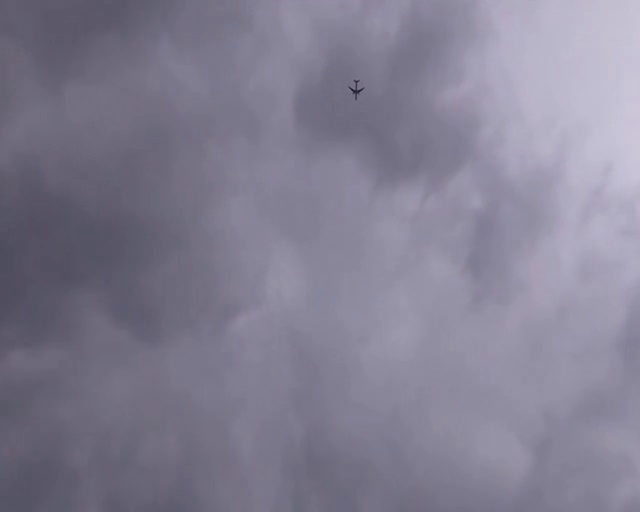AIRPLANE: (348, 79, 365, 100)
